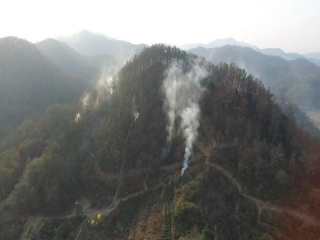smoke: (156, 55, 212, 175)
